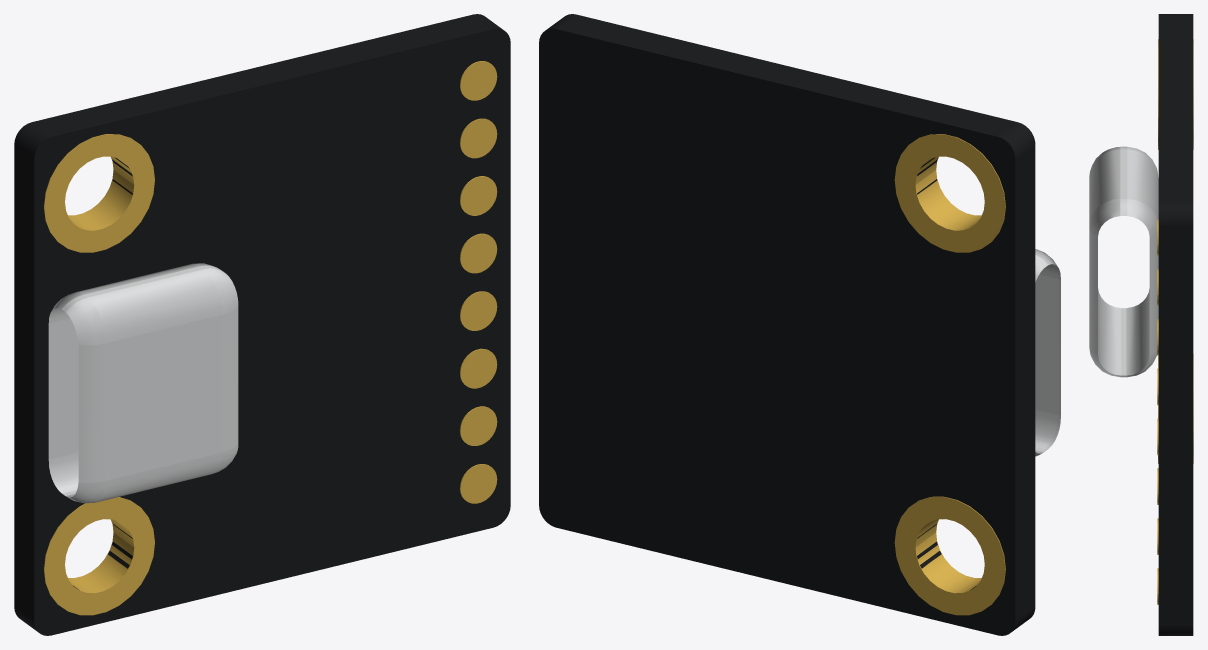
The model's file is usb-c-breakout-sol-333011.glb.
3 renders of one model, left to right at view 1: azimuth 30°, elevation 25°; view 2: azimuth 150°, elevation 25°; view 3: azimuth 270°, elevation 25°, orthographic. The views are drawn at different scales.
Parts seen in each view (by area): view 1: board, usb_c, hole_2, hole_1, pins_7, pins_5, pins_3, pins_2, pins_8, pins_1, pins_4, pins_6; view 2: board, hole_2, hole_1, usb_c; view 3: board, usb_c, hole_2.
Part boxes in pixels (x1,y1,x2,y2): board: (14,14,510,635); usb_c: (48,263,238,503); hole_2: (44,134,154,252); hole_1: (44,497,154,615); pins_7: (460,118,497,158); pins_5: (460,233,497,273); pins_3: (460,348,497,388); pins_2: (460,406,497,445); pins_8: (460,61,497,100); pins_1: (460,464,497,503); pins_4: (460,291,497,330); pins_6: (460,176,497,215); board: (539,14,1035,635); hole_2: (894,134,1005,252); hole_1: (894,496,1005,615); usb_c: (1035,249,1060,456); board: (1158,14,1193,635); usb_c: (1089,146,1158,377); hole_2: (1158,39,1193,149).
Size of the model in its own units: 22 by 22 by 4.83.
